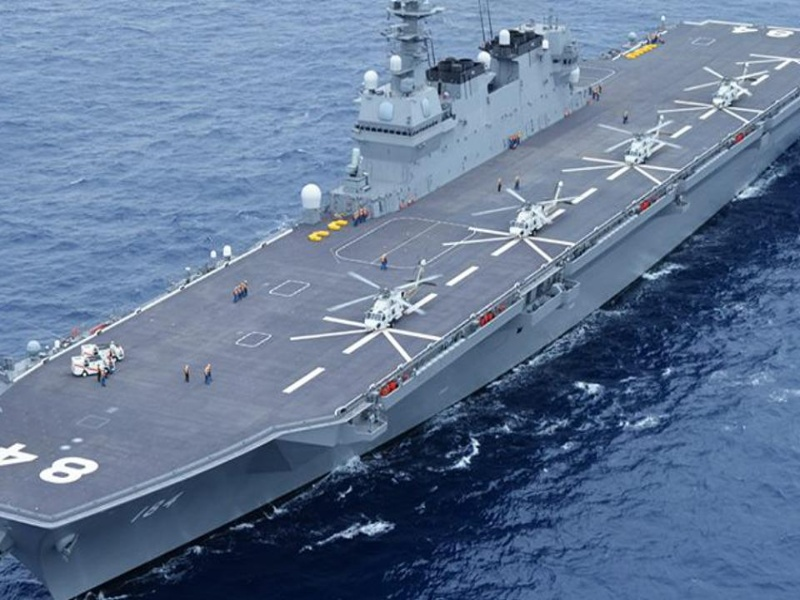carrier: (28, 21, 800, 580)
